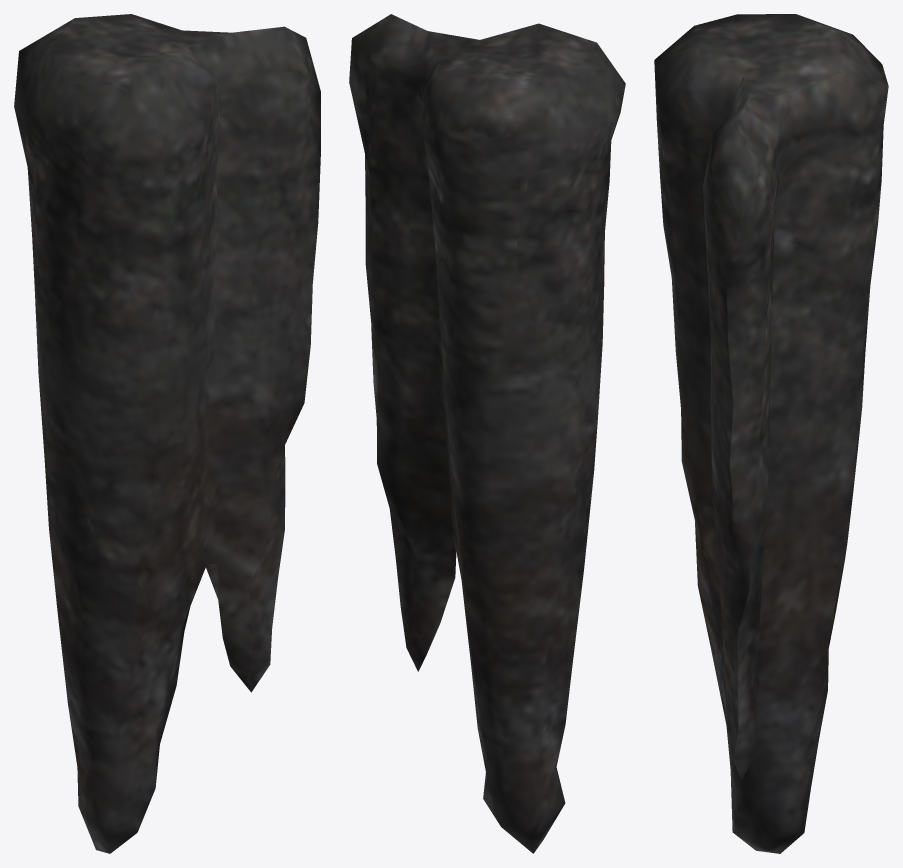
The model's file is CaveRockPack1_High1.fbx.
3 views of the same model, side by side, from view 1: azimuth 30°, elevation 25°; view 2: azimuth 150°, elevation 25°; view 3: azimuth 270°, elevation 25° (orthographic). The views are drawn at different scales.
Parts seen in each view (by area): view 1: CaveRockPack1_High2; view 2: CaveRockPack1_High2; view 3: CaveRockPack1_High2.
Part boxes in pixels (x1=…): CaveRockPack1_High2: x1=14, y1=14, x2=320, y2=853; CaveRockPack1_High2: x1=349, y1=14, x2=625, y2=853; CaveRockPack1_High2: x1=654, y1=14, x2=888, y2=853.
Bounding box in the file's own units: 707 × 1964 × 505.
